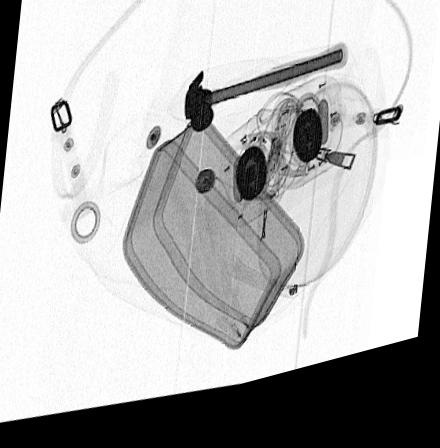Hammer: (183, 59, 348, 142)
